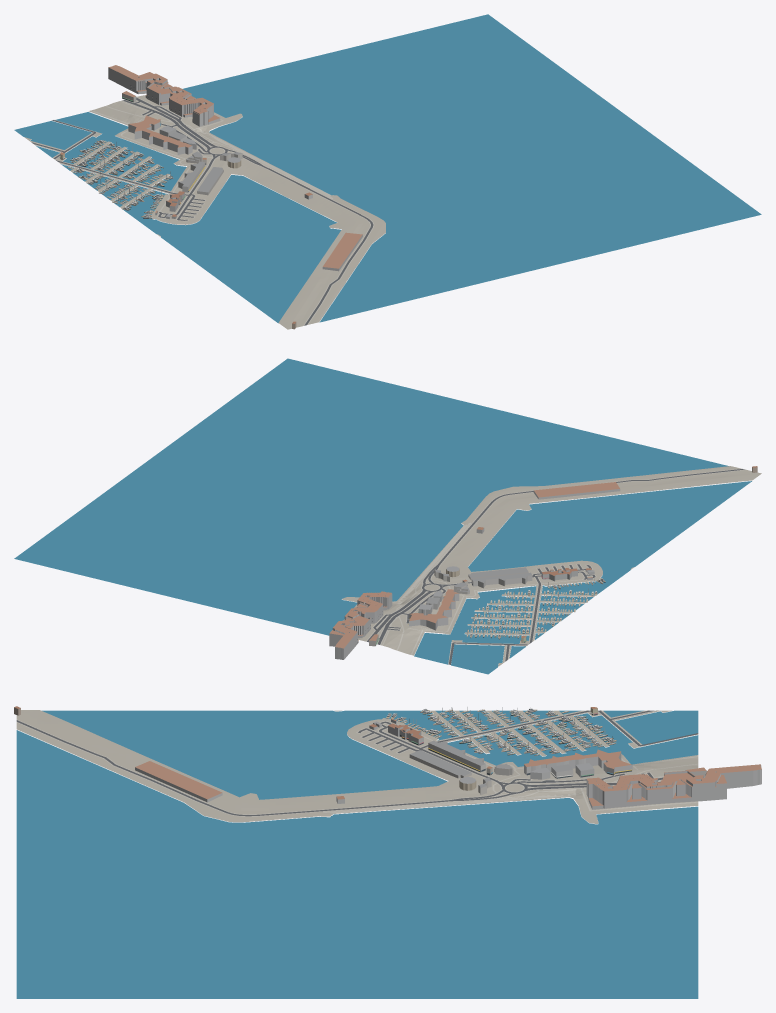
3 views of the same model, one above another, from view 1: azimuth 30°, elevation 25°; view 2: azimuth 150°, elevation 25°; view 3: azimuth 270°, elevation 25° (orthographic). The views are drawn at different scales.
Parts seen in each view (by area): view 1: Water, Ground, Walls, Roofs, Sidewalk, Boats, Road; view 2: Water, Ground, Roofs, Walls, Sidewalk, Boats, Road; view 3: Water, Ground, Walls, Roofs, Sidewalk, Boats, Road.
Boxes of the visible parts, bbox=[...] form: Water: bbox=[14, 14, 761, 323]; Ground: bbox=[24, 95, 385, 329]; Walls: bbox=[60, 67, 362, 329]; Roofs: bbox=[60, 65, 362, 323]; Sidewalk: bbox=[30, 97, 374, 325]; Boats: bbox=[67, 139, 173, 218]; Road: bbox=[31, 97, 373, 325]; Water: bbox=[14, 358, 751, 674]; Ground: bbox=[342, 466, 761, 666]; Roofs: bbox=[329, 466, 757, 648]; Walls: bbox=[329, 467, 757, 659]; Sidewalk: bbox=[366, 468, 746, 663]; Boats: bbox=[466, 578, 605, 639]; Road: bbox=[367, 469, 744, 664]; Water: bbox=[16, 710, 698, 998]; Ground: bbox=[16, 710, 698, 823]; Walls: bbox=[14, 707, 761, 809]; Roofs: bbox=[14, 706, 761, 806]; Sidewalk: bbox=[16, 710, 698, 816]; Boats: bbox=[386, 707, 616, 755]; Road: bbox=[16, 710, 698, 816].
Bounding box in the file's own units: 1003 × 31.39 × 1097.
